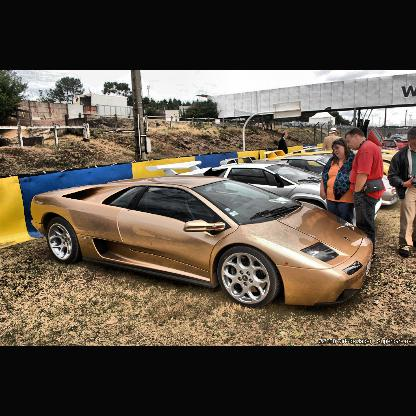Lamborghini Diablo Coupe 2001: (31, 176, 375, 311)
